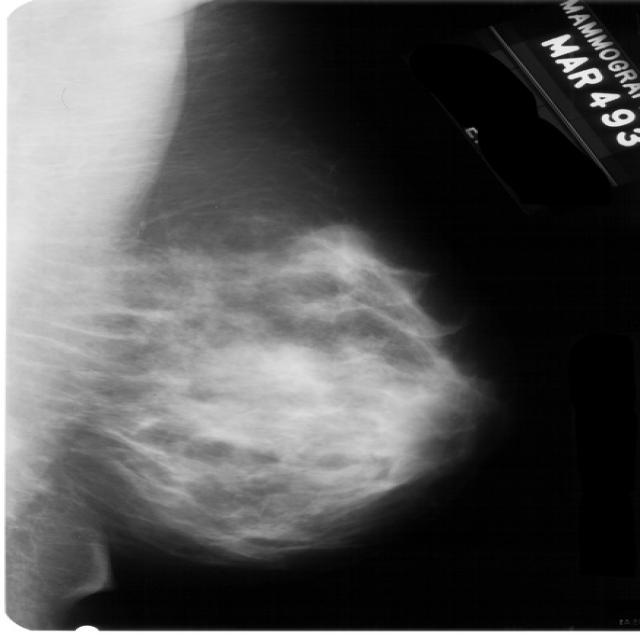tumour: (306, 224, 372, 271)
